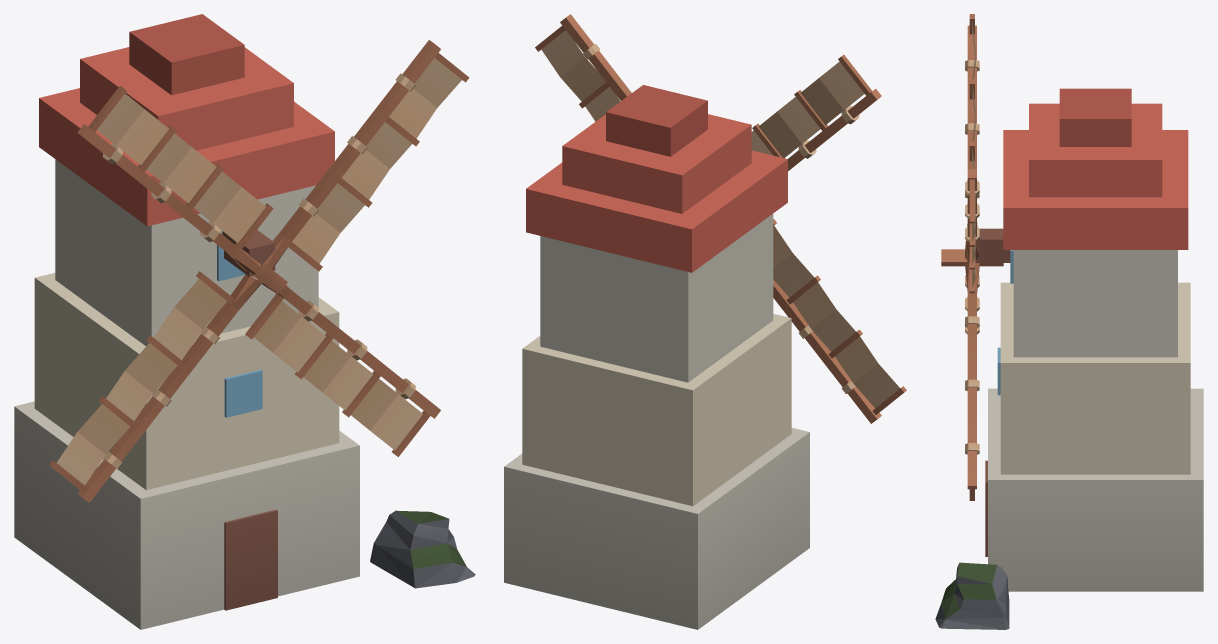
Rendered from hilltop-windmill.glb.
3 views of the same model, side by side, from view 1: azimuth 30°, elevation 25°; view 2: azimuth 150°, elevation 25°; view 3: azimuth 270°, elevation 25° (orthographic). The views are drawn at different scales.
Visible parts, largest first — view 1: hilltop-windmill_body; view 2: hilltop-windmill_body; view 3: hilltop-windmill_body.
Boxes of the visible parts, <box> form: hilltop-windmill_body: <box>14,14,475,629</box>; hilltop-windmill_body: <box>504,14,906,629</box>; hilltop-windmill_body: <box>935,14,1203,629</box>.
Size of the model in its own units: 8 by 10.2 by 5.22.
